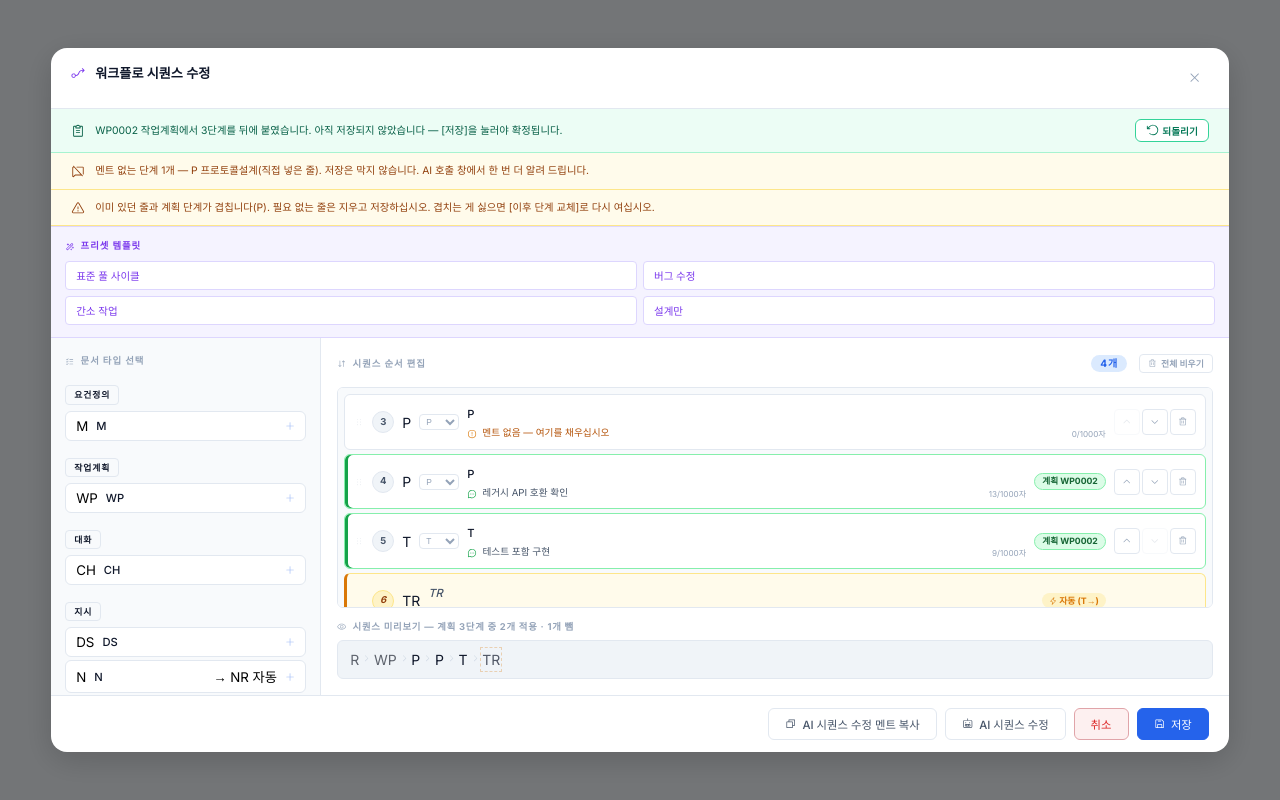
Test case: 계획 줄로 채워진 시퀀스 수정 창 › 되돌리기는 부어 넣기 직전 상태로 통째로 되돌린다
Expected: the number of elements with class "from-plan" is 2, [344, 454, 1206, 509]; [344, 513, 1206, 569]
Step 1. Click the button with class "wdm-undo" → coordinates (1172, 131), box [1135, 119, 1209, 142]
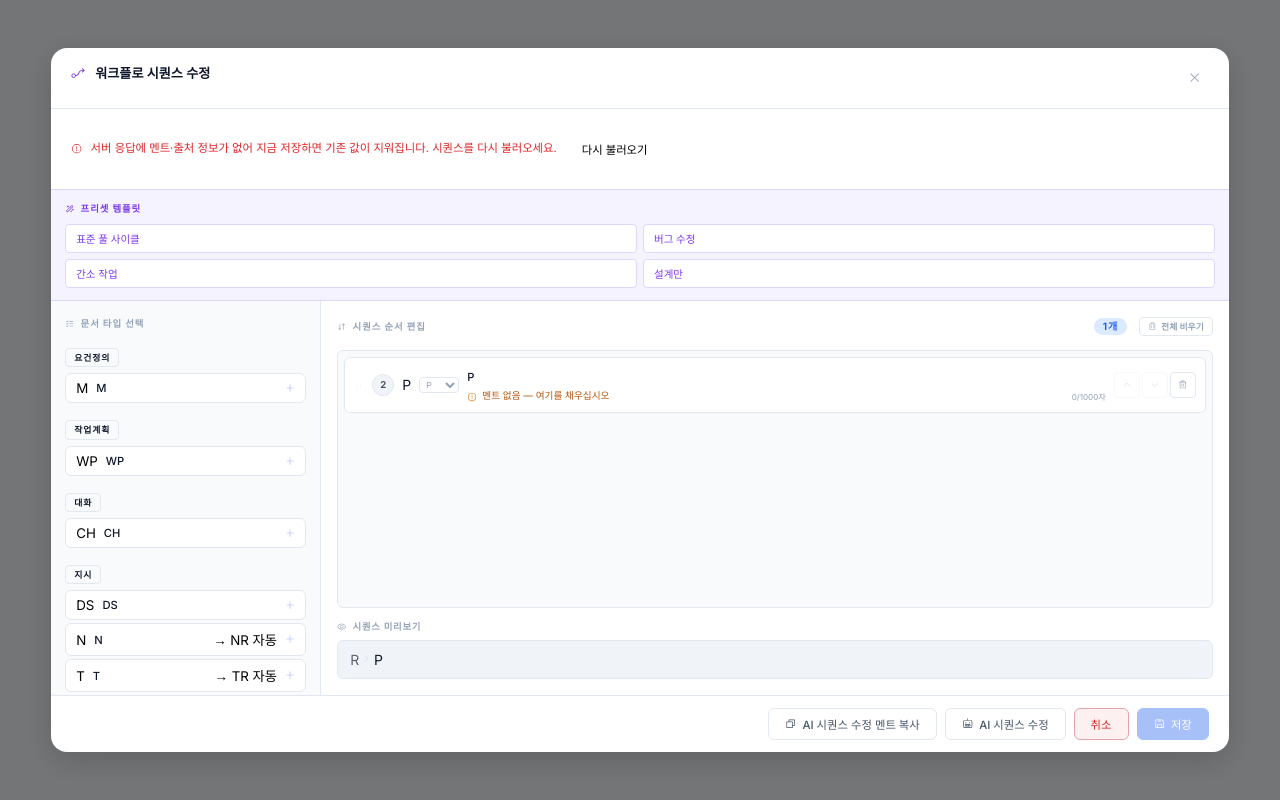
Now no elements with class "from-plan" are shown
Now the number of elements with class "wdm-seq-item" is 1, box [344, 357, 1206, 413]
